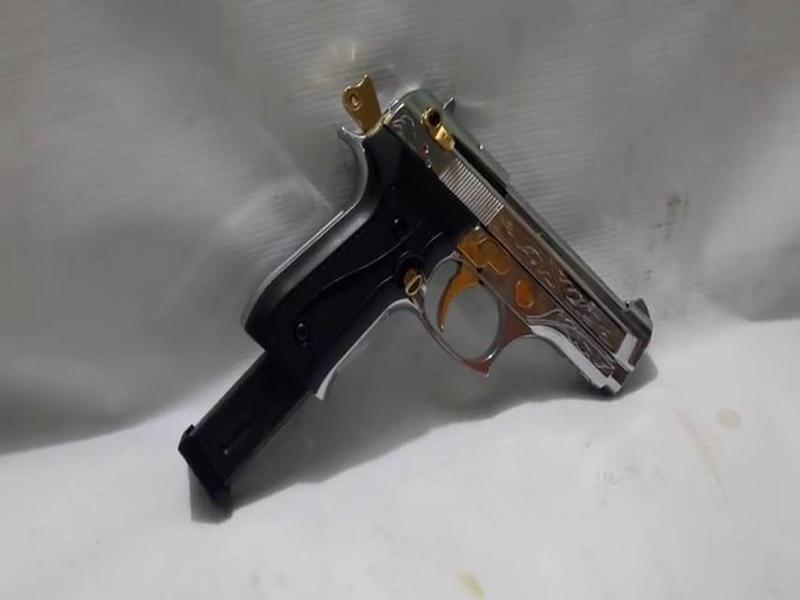Pistola: (249, 56, 673, 415)
